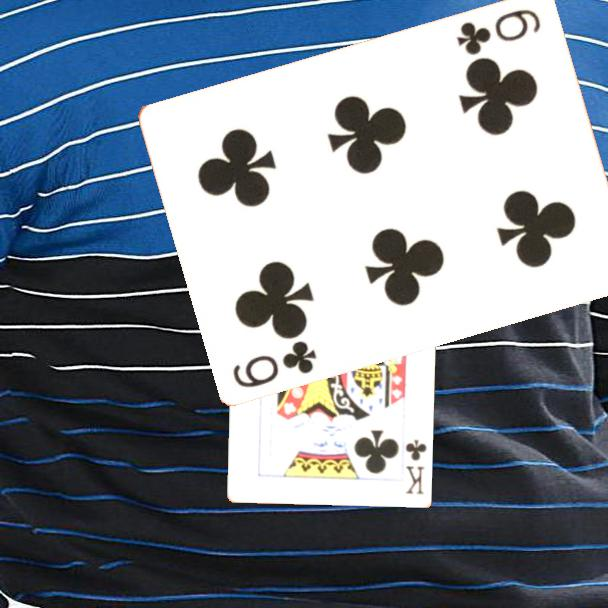c06: (229, 336, 320, 390), (453, 5, 544, 58)
c13: (402, 436, 429, 496)
